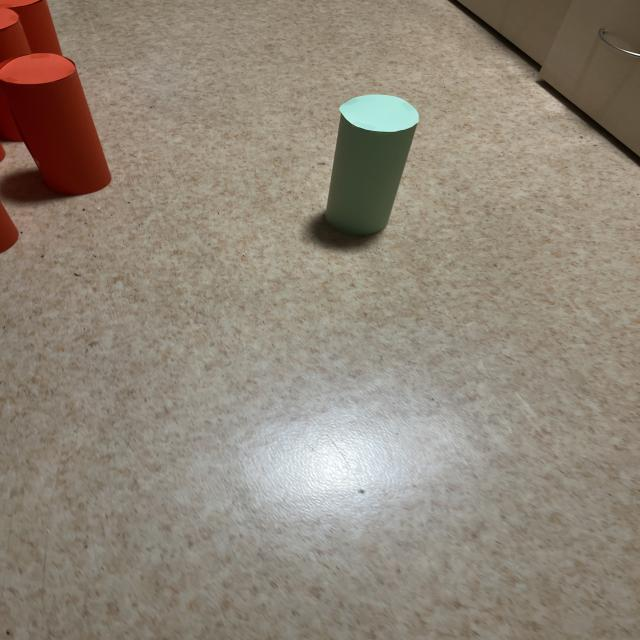meta: (325, 95, 419, 235)
